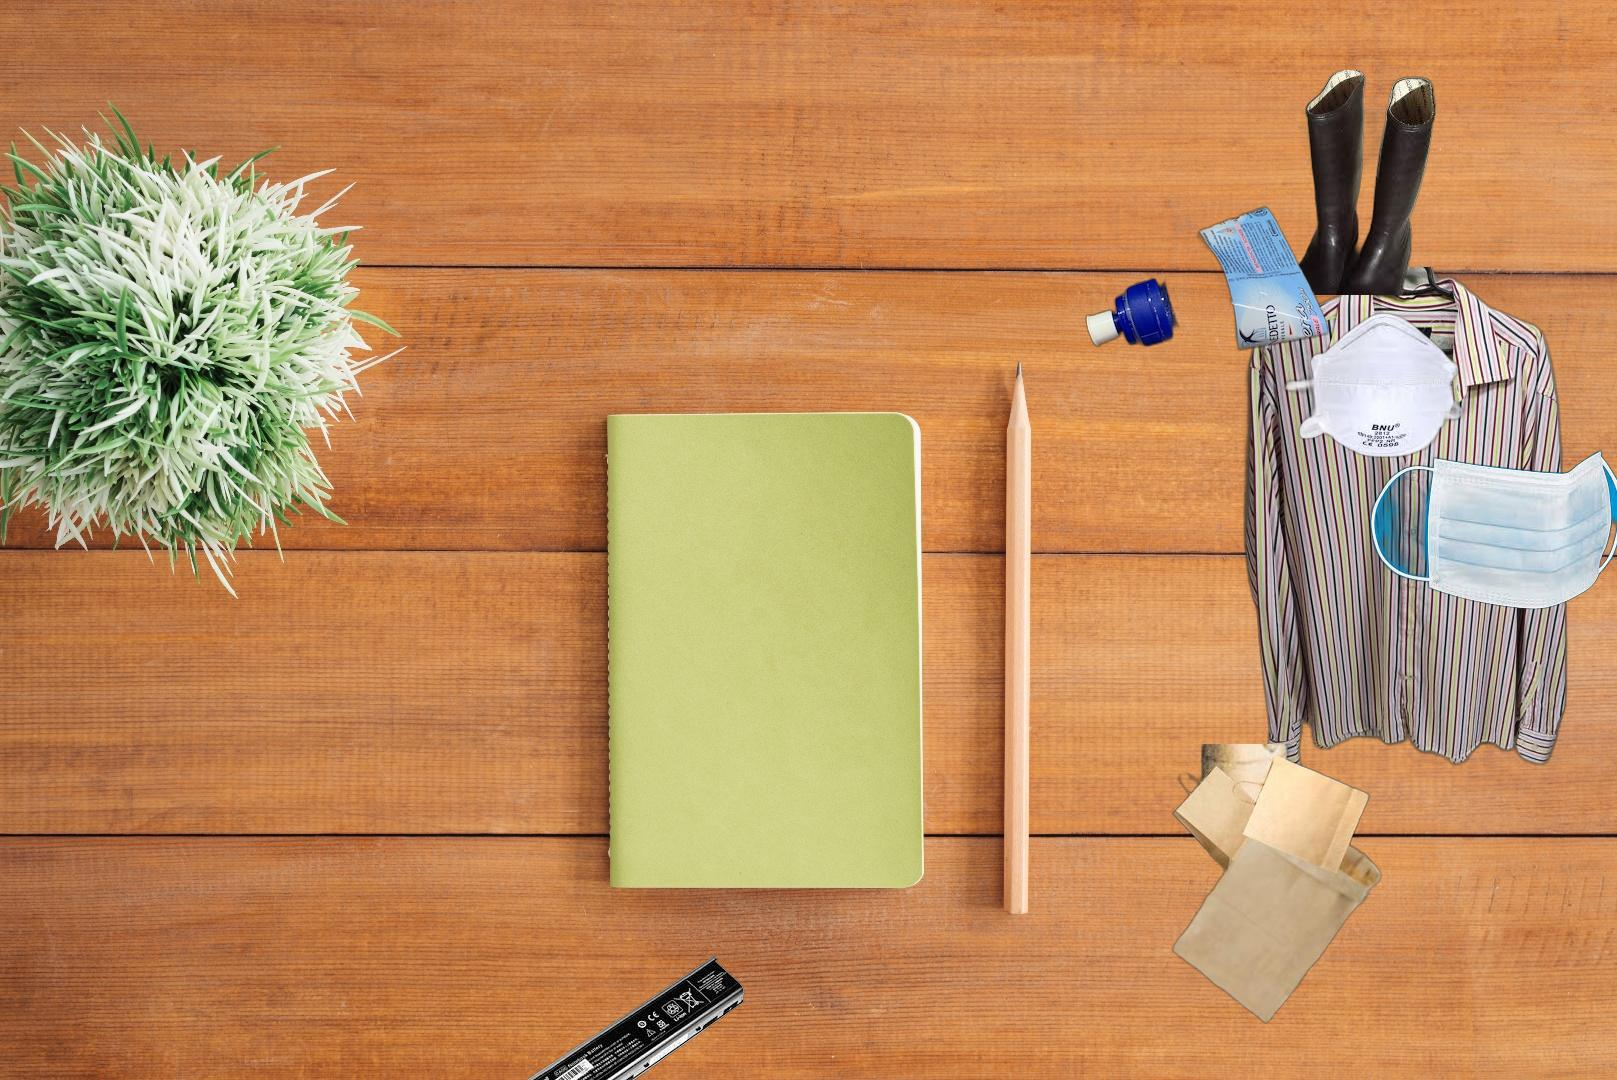battery: (510, 953, 747, 1080)
clothes: (1233, 268, 1570, 781)
paper-bag: (1169, 744, 1384, 1026)
plastic-bottles: (1083, 77, 1405, 354)
shoes: (1264, 70, 1437, 295)
trash: (1368, 445, 1617, 612), (1280, 310, 1477, 459)
